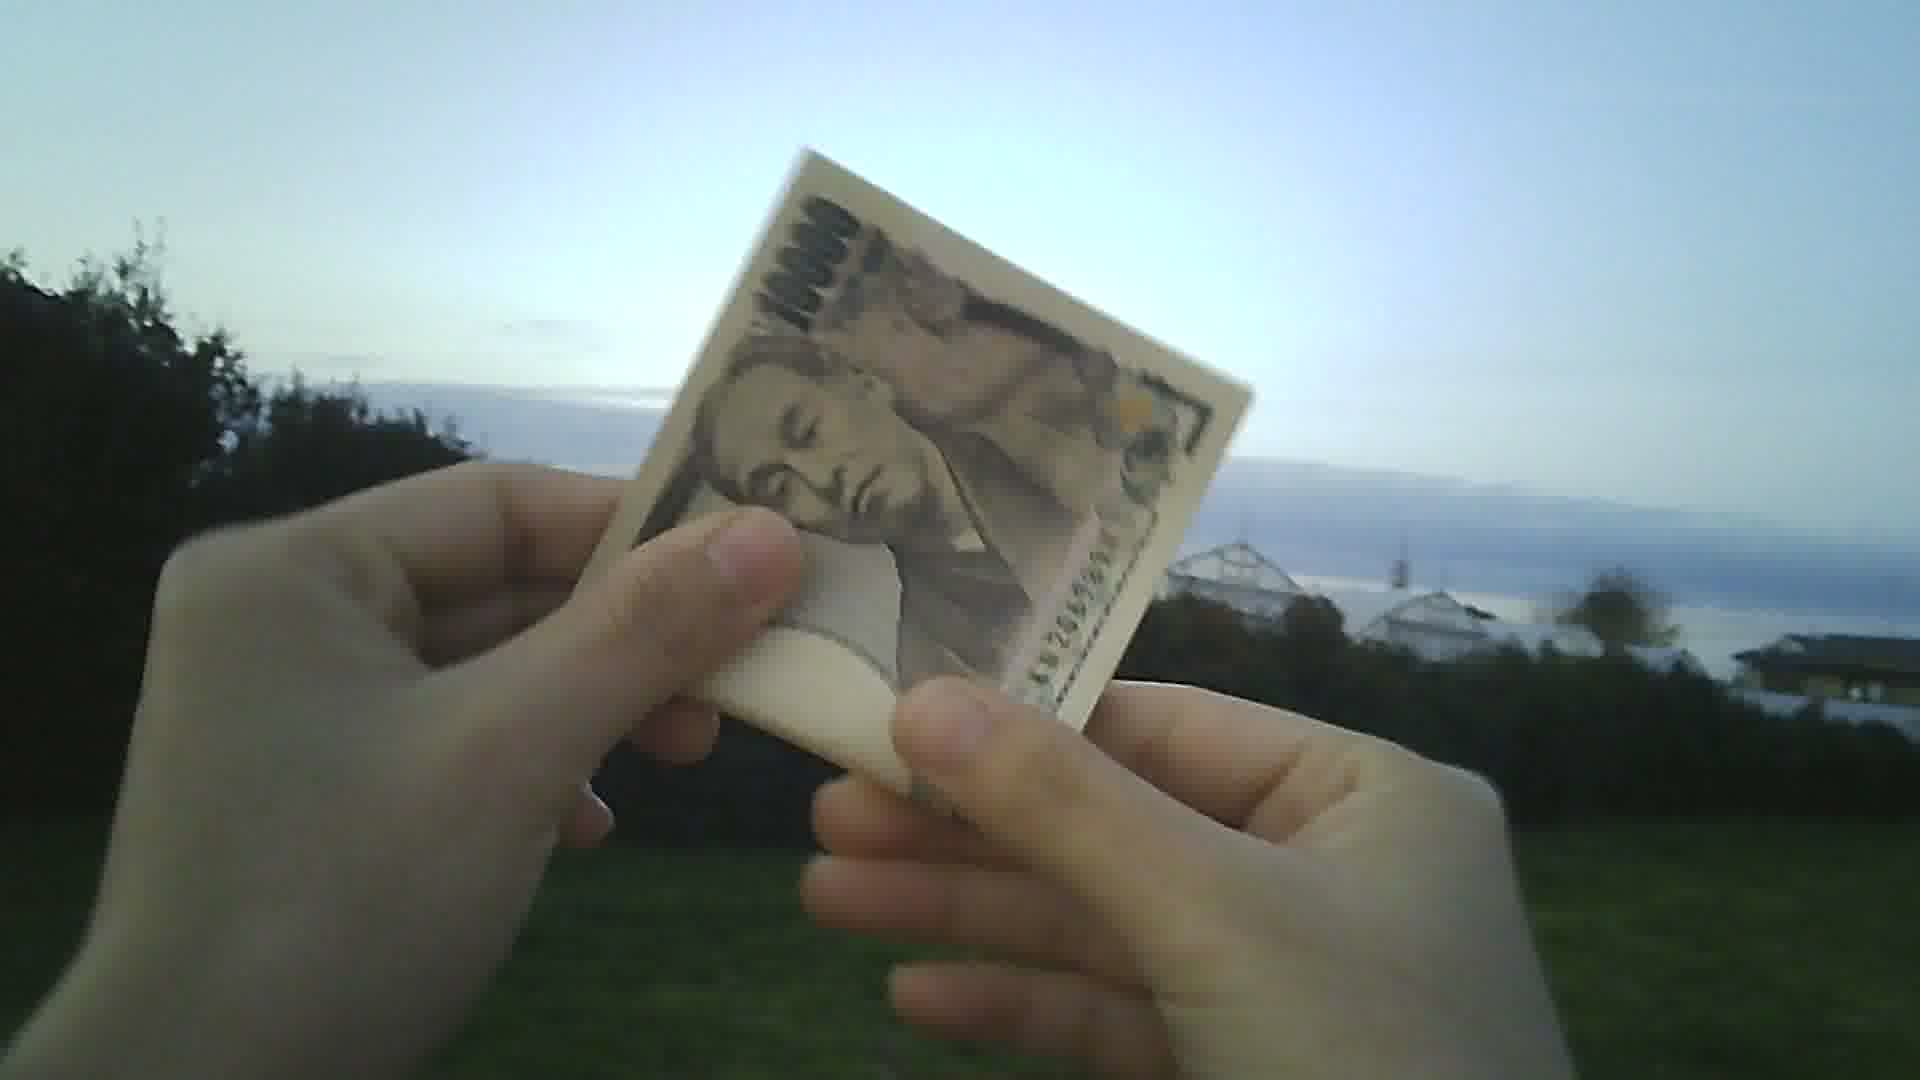10,000 Yen: (564, 117, 1234, 818)
